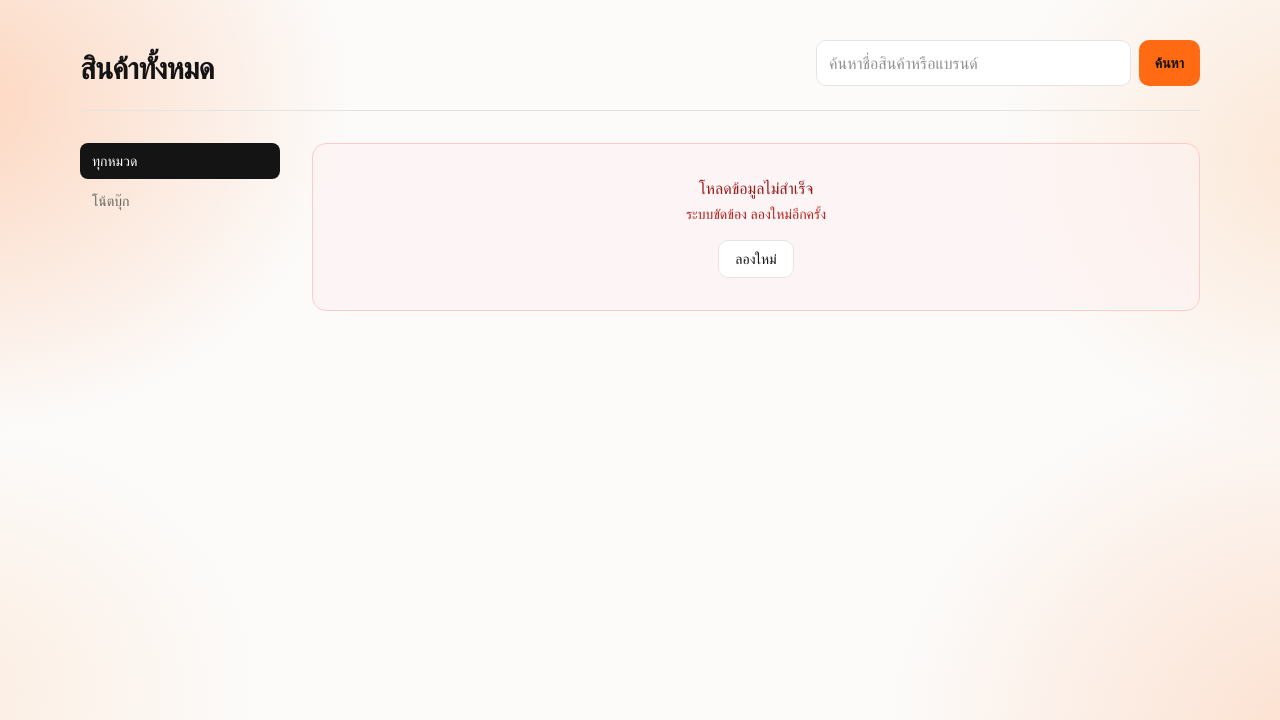
Test case: API พัง ต้องแสดง Error และกดลองใหม่แล้วโหลดได้
The width and height of the screenshot is (1280, 720).
Check: the message shows "ระบบขัดข้อง ลองใหม่อีกครั้ง", box [686,204,826,223]
Click the button "ลองใหม่": [756, 259] box [718,240,794,278]
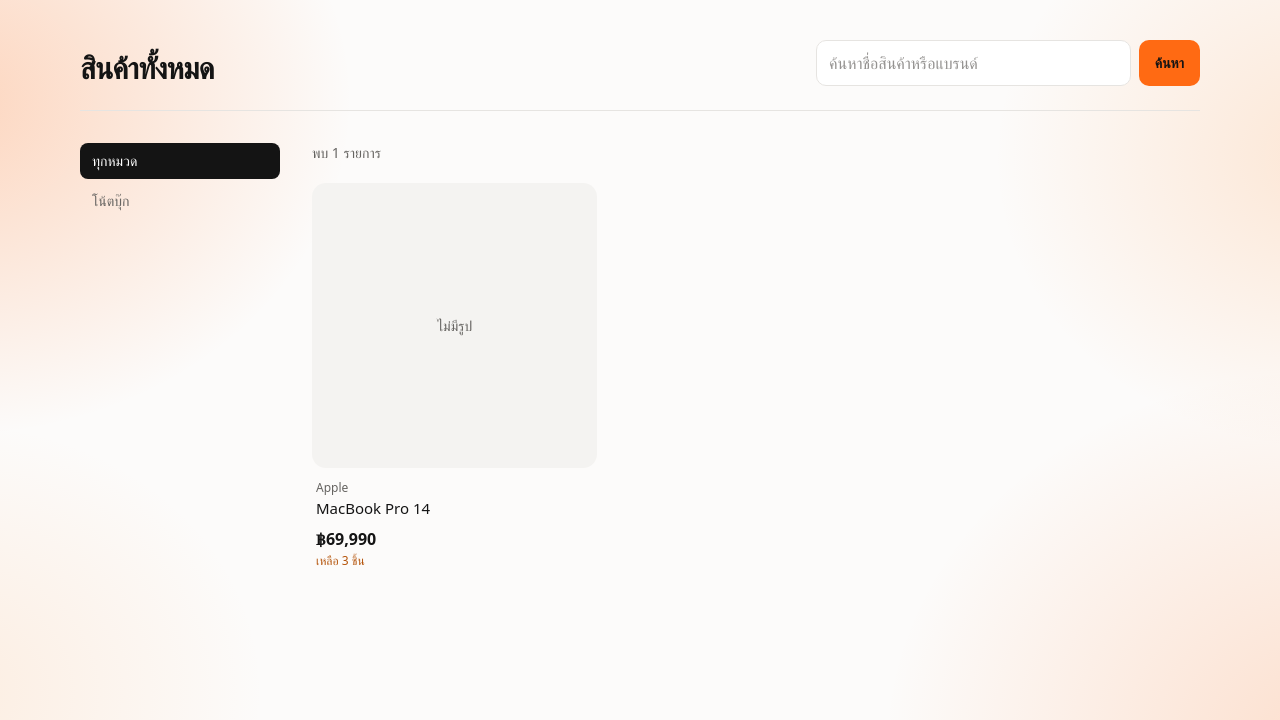
Check: the heading "MacBook Pro 14" is shown, box [316,498,430,518]
Check: the message "โหลดข้อมูลไม่สำเร็จ ระบบขัดข้อง ลองใหม่อีกครั้ง ลองใหม่" is gone
